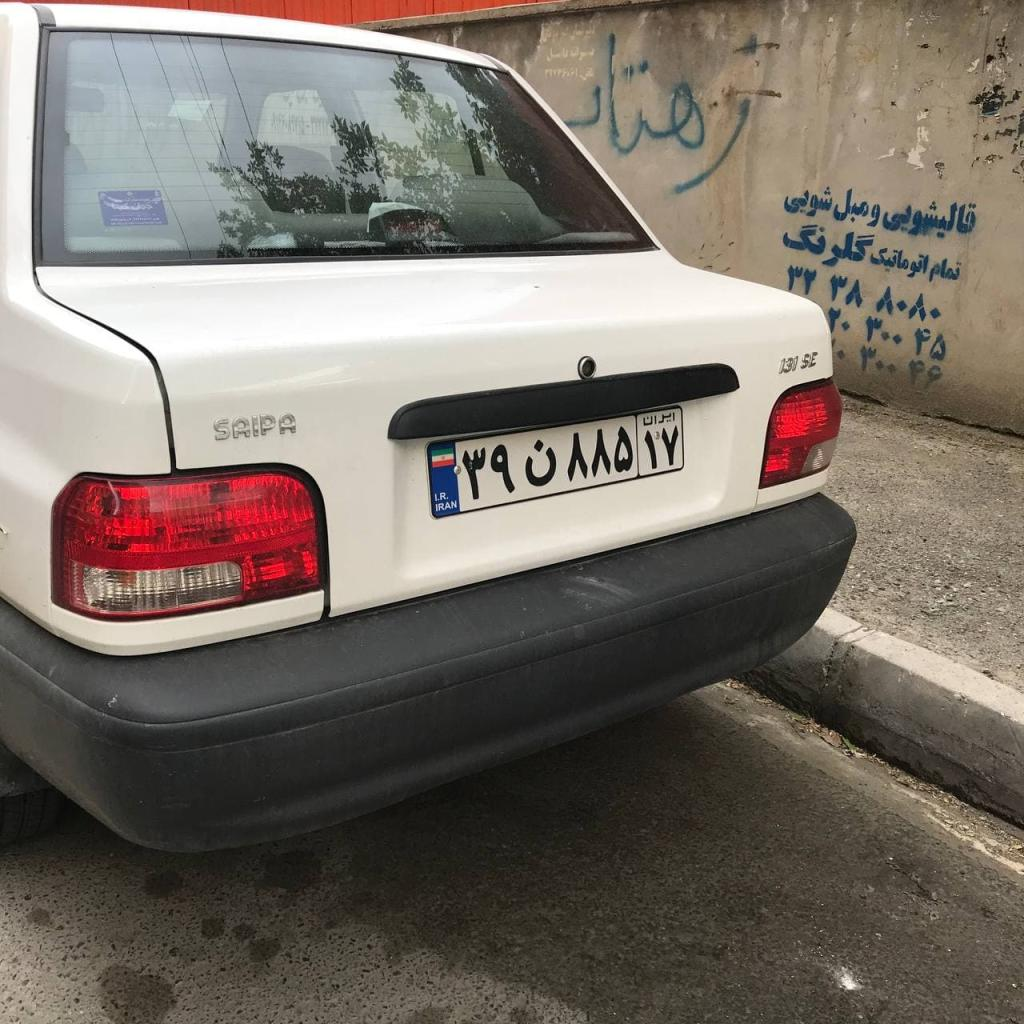Plates: (426, 406, 684, 518)
